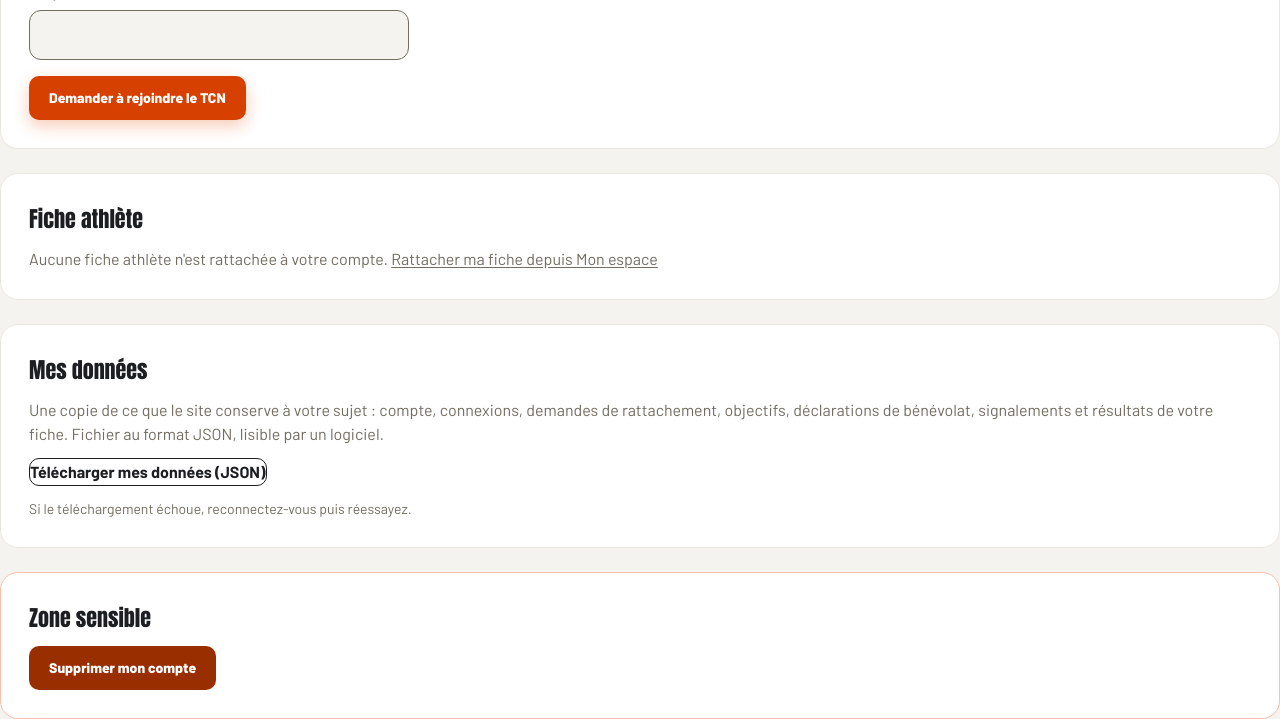
AccountPage: sensitive zone › shows the server refusal inside the dialog and stays put
(page scrolled)
Click the button "Supprimer mon compte" at x=123, y=668, box left=29, top=646, right=216, bottom=690
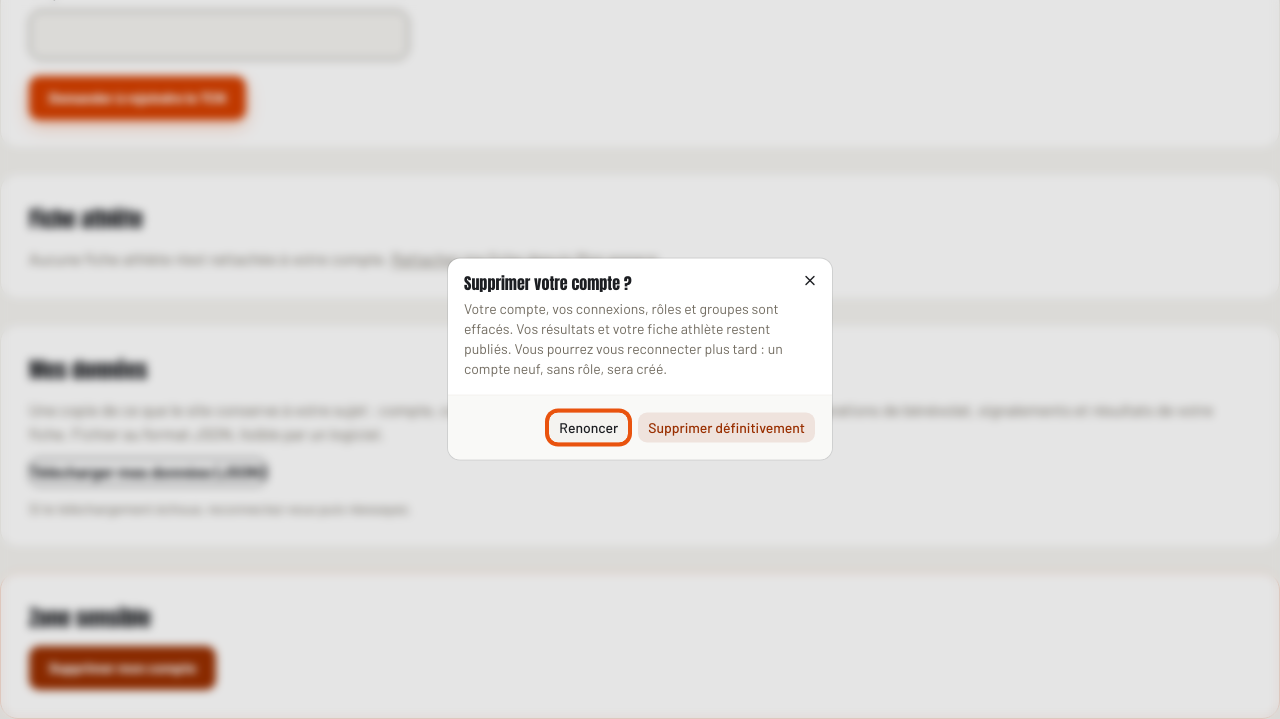
Click the button "Supprimer définitivement" at x=727, y=428, box left=637, top=412, right=816, bottom=444
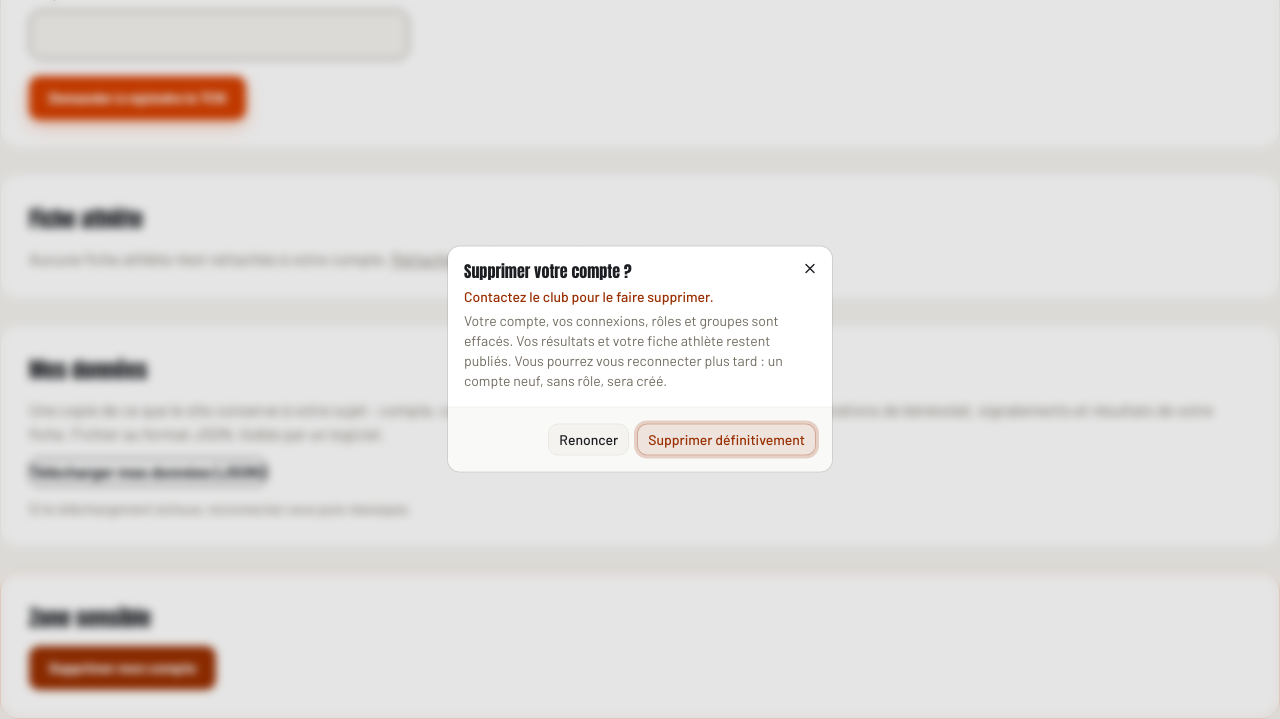
Expected: the dialog shows "Contactez le club pour le faire supprimer.", left=464, top=288, right=714, bottom=304
